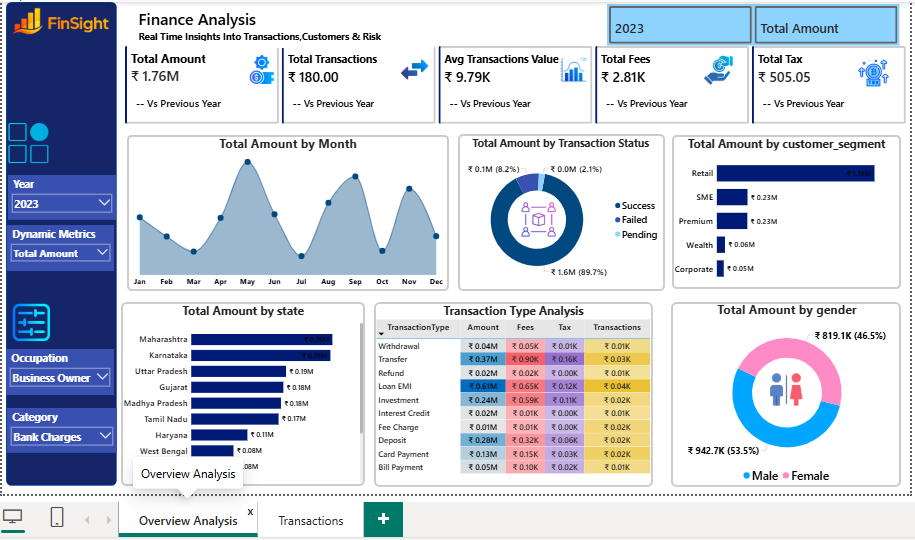

The dashboard page shown, as its layout file describes it:
{"tool":"powerbi","page":{"name":"Overview Analysis","canvas":[2290,1240],"ordinal":0},"visuals":[{"type":"shape","box":[10.2,0,279.5,1219.5],"z":0},{"type":"cardVisual","fields":{"Data":["finance_transactions.Total Amount","finance_transactions.Total Transactions","finance_transactions.Avg Transactions Value","finance_transactions.Total Fees","finance_transactions.Total Tax"]},"box":[299.9,100.8,1991.1,216.7],"z":1000},{"type":"slicer","fields":{"Values":["Calender Table.Year"]},"box":[15.1,436,272.2,113.4],"z":2000},{"type":"slicer","fields":{"Values":["Dynamic Metrics.Dynamic Metrics"]},"box":[12.6,562,269.7,115.9],"z":3000},{"type":"shape","box":[315,335.2,811.5,393.2],"z":4000},{"type":"cardVisual","fields":{"Data":["finance_transactions.Selected Year","finance_transactions.Selected Dynamic Measure"]},"box":[1519.8,0,748.5,115.9],"z":5000},{"type":"image","box":[607.4,133.6,95.8,73.1],"z":6000},{"type":"image","box":[990.5,133.6,98.3,73.1],"z":7000},{"type":"image","box":[1406.3,133.6,68,73.1],"z":8000},{"type":"image","box":[1751.6,133.6,108.4,75.6],"z":9000},{"type":"image","box":[2149.8,133.6,93.3,90.7],"z":10000},{"type":"image","box":[15.1,305,103.3,100.8],"z":11000},{"type":"image","box":[15.1,753.6,118.5,108.4],"z":12000},{"type":"areaChart","fields":{"Y":["finance_transactions.Total Amount"],"Category":["Calender Table.Month"]},"box":[315,335.2,811.5,390.7],"z":15000},{"type":"shape","box":[1149.3,332.7,521.7,395.7],"z":16000},{"type":"donutChart","fields":{"Y":["finance_transactions.Total Amount"],"Category":["finance_transactions.transaction_status"]},"box":[1149.3,335.2,516.7,390.7],"z":17000},{"type":"image","box":[1298,501.5,108.4,93.3],"z":18000},{"type":"shape","box":[1688.6,335.2,577.2,388.1],"z":19000},{"type":"shape","box":[299.9,756.1,615,463.7],"z":20000},{"type":"shape","box":[937.6,756.1,703.2,466.3],"z":21000},{"type":"shape","box":[1686.1,756.1,579.7,466.3],"z":22000},{"type":"barChart","fields":{"Y":["finance_transactions.Total Amount"],"Category":["customers.state"]},"box":[299.9,756.1,615,463.7],"z":23000},{"type":"tableEx","title":"Transaction Type Analysis","fields":{"Values":["finance_transactions.transaction_type","finance_transactions.Total Amount","finance_transactions.Total Fees","finance_transactions.Total Tax","finance_transactions.Total Transactions"]},"box":[937.6,756.1,703.2,466.3],"z":24000},{"type":"donutChart","fields":{"Y":["finance_transactions.Total Amount"],"Category":["customers.gender"]},"box":[1688.6,753.6,579.7,466.3],"z":25000},{"type":"image","box":[1910.4,930,133.6,93.3],"z":26000},{"type":"slicer","fields":{"Values":["customers.occupation"]},"box":[10.1,874.6,272.2,115.9],"z":27000},{"type":"slicer","fields":{"Values":["finance_transactions.merchant_category"]},"box":[12.6,1023.3,277.2,113.4],"z":28000},{"type":"cardVisual","fields":{"Data":["finance_transactions.Dashboard Title"]},"box":[315,0,773.7,115.9],"z":29000},{"type":"barChart","fields":{"Y":["finance_transactions.Total Amount"],"Category":["customers.customer_segment"]},"box":[1688.6,335.2,577.2,388.1],"z":30000},{"type":"image","box":[12.6,0,277.2,98.3],"z":30001}]}

Visuals, with their boxes on the page's 2290x1240 design canvas (x1, y1, x2, y2). These are canvas units, not pixel positions in the 915x540 screenshot, which may show the page scaled, cropped or inside an application window:
shape: <region>10, 0, 290, 1220</region>
cardVisual - finance_transactions.Total Amount x finance_transactions.Total Transactions: <region>300, 101, 2291, 318</region>
slicer - Calender Table.Year: <region>15, 436, 287, 549</region>
slicer - Dynamic Metrics.Dynamic Metrics: <region>13, 562, 282, 678</region>
shape: <region>315, 335, 1126, 728</region>
cardVisual - finance_transactions.Selected Year x finance_transactions.Selected Dynamic Measure: <region>1520, 0, 2268, 116</region>
image: <region>607, 134, 703, 207</region>
image: <region>990, 134, 1089, 207</region>
image: <region>1406, 134, 1474, 207</region>
image: <region>1752, 134, 1860, 209</region>
image: <region>2150, 134, 2243, 224</region>
image: <region>15, 305, 118, 406</region>
image: <region>15, 754, 134, 862</region>
areaChart - finance_transactions.Total Amount x Calender Table.Month: <region>315, 335, 1126, 726</region>
shape: <region>1149, 333, 1671, 728</region>
donutChart - finance_transactions.Total Amount x finance_transactions.transaction_status: <region>1149, 335, 1666, 726</region>
image: <region>1298, 502, 1406, 595</region>
shape: <region>1689, 335, 2266, 723</region>
shape: <region>300, 756, 915, 1220</region>
shape: <region>938, 756, 1641, 1222</region>
shape: <region>1686, 756, 2266, 1222</region>
barChart - finance_transactions.Total Amount x customers.state: <region>300, 756, 915, 1220</region>
"Transaction Type Analysis" tableEx: <region>938, 756, 1641, 1222</region>
donutChart - finance_transactions.Total Amount x customers.gender: <region>1689, 754, 2268, 1220</region>
image: <region>1910, 930, 2044, 1023</region>
slicer - customers.occupation: <region>10, 875, 282, 990</region>
slicer - finance_transactions.merchant_category: <region>13, 1023, 290, 1137</region>
cardVisual - finance_transactions.Dashboard Title: <region>315, 0, 1089, 116</region>
barChart - finance_transactions.Total Amount x customers.customer_segment: <region>1689, 335, 2266, 723</region>
image: <region>13, 0, 290, 98</region>
